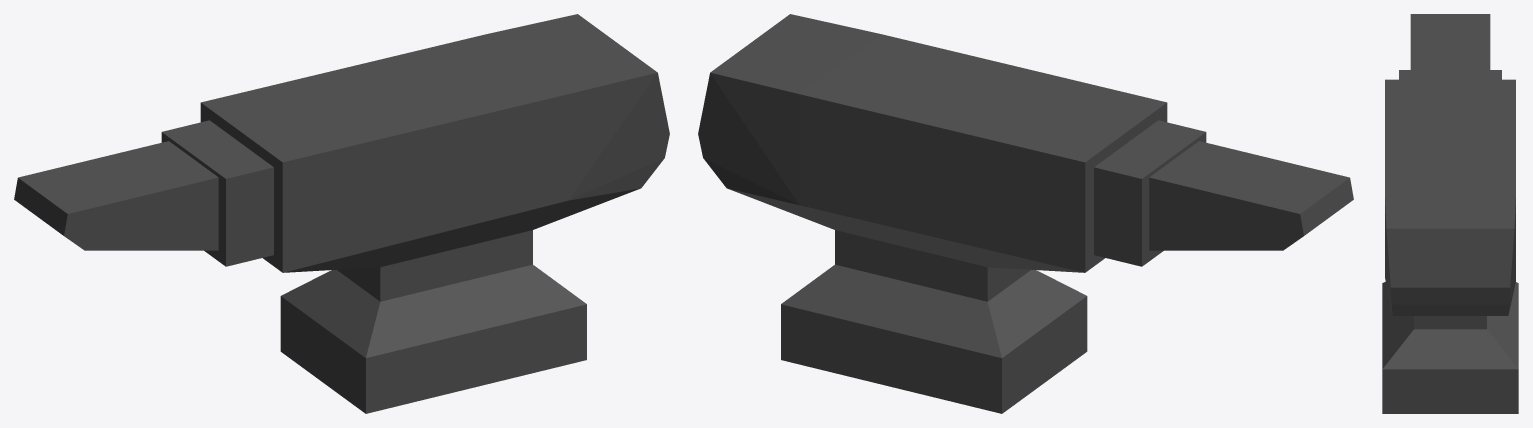
The model's file is anvil.fbx.
3 views of the same model, side by side, from view 1: azimuth 30°, elevation 25°; view 2: azimuth 150°, elevation 25°; view 3: azimuth 270°, elevation 25° (orthographic). The views are drawn at different scales.
Parts seen in each view (by area): view 1: Anvil; view 2: Anvil; view 3: Anvil.
Part boxes in pixels (x1=…): Anvil: x1=14, y1=14, x2=669, y2=413; Anvil: x1=698, y1=14, x2=1353, y2=413; Anvil: x1=1382, y1=14, x2=1518, y2=413.
Bounding box in the file's own units: 604 × 263 × 150.
